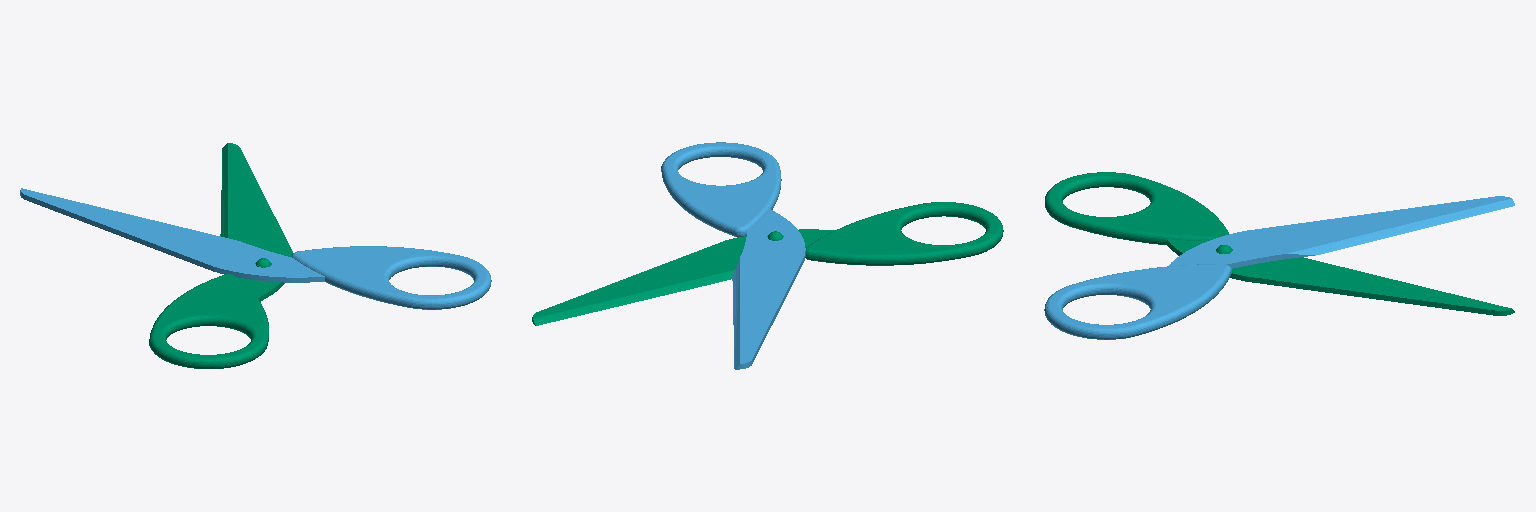
robot.urdf — partnet_a5421bb2fabea179467ca2ad6571afff:
<?xml version="1.0" ?>
<robot name="partnet_a5421bb2fabea179467ca2ad6571afff">
	<link name="base"/>
	<link name="link_0">
		<visual name="blade-4">
			<origin xyz="-0.0013485887753746928 -0.038231191158367483 0.016643122688608233"/>
			<geometry>
				<mesh filename="textured_objs/original-6.obj"/>
			</geometry>
		</visual>
		<visual name="handle-5">
			<origin xyz="-0.0013485887753746928 -0.038231191158367483 0.016643122688608233"/>
			<geometry>
				<mesh filename="textured_objs/original-5.obj"/>
			</geometry>
		</visual>
		<collision>
			<origin xyz="-0.0013485887753746928 -0.038231191158367483 0.016643122688608233"/>
			<geometry>
				<mesh filename="textured_objs/original-6.obj"/>
			</geometry>
		</collision>
		<collision>
			<origin xyz="-0.0013485887753746928 -0.038231191158367483 0.016643122688608233"/>
			<geometry>
				<mesh filename="textured_objs/original-5.obj"/>
			</geometry>
		</collision>
	</link>
	<joint name="joint_0" type="revolute">
		<origin xyz="0.0013485887753746928 0.038231191158367483 -0.016643122688608233"/>
		<axis xyz="0 1 0"/>
		<child link="link_0"/>
		<parent link="link_1"/>
		<limit lower="-0.7853981633974483" upper="-0.0"/>
	</joint>
	<link name="link_1">
		<visual name="screw-3">
			<origin xyz="0 0 0"/>
			<geometry>
				<mesh filename="textured_objs/original-3.obj"/>
			</geometry>
		</visual>
		<visual name="screw-3">
			<origin xyz="0 0 0"/>
			<geometry>
				<mesh filename="textured_objs/original-2.obj"/>
			</geometry>
		</visual>
		<visual name="blade-6">
			<origin xyz="0 0 0"/>
			<geometry>
				<mesh filename="textured_objs/original-9.obj"/>
			</geometry>
		</visual>
		<visual name="handle-7">
			<origin xyz="0 0 0"/>
			<geometry>
				<mesh filename="textured_objs/original-8.obj"/>
			</geometry>
		</visual>
		<collision>
			<origin xyz="0 0 0"/>
			<geometry>
				<mesh filename="textured_objs/original-3.obj"/>
			</geometry>
		</collision>
		<collision>
			<origin xyz="0 0 0"/>
			<geometry>
				<mesh filename="textured_objs/original-2.obj"/>
			</geometry>
		</collision>
		<collision>
			<origin xyz="0 0 0"/>
			<geometry>
				<mesh filename="textured_objs/original-9.obj"/>
			</geometry>
		</collision>
		<collision>
			<origin xyz="0 0 0"/>
			<geometry>
				<mesh filename="textured_objs/original-8.obj"/>
			</geometry>
		</collision>
	</link>
	<joint name="joint_1" type="fixed">
		<origin rpy="1.570796326794897 0 -1.570796326794897" xyz="0 0 0"/>
		<child link="link_1"/>
		<parent link="base"/>
	</joint>
</robot>

--- Render facts (derived) ---
Views: 3 orthographic renders of the robot side by side, from view 1: azimuth 30°, elevation 25°; view 2: azimuth 150°, elevation 25°; view 3: azimuth 270°, elevation 25°.
Model partnet_a5421bb2fabea179467ca2ad6571afff with 3 links and 2 joints (1 revolute, 1 fixed), rooted at base, posed every joint at zero.
Links seen in each view (by area): view 1: link_0, link_1; view 2: link_0, link_1; view 3: link_0, link_1.
Boxes of the visible links, x1=… form: link_0: x1=20, y1=188, x2=491, y2=309; link_1: x1=149, y1=143, x2=292, y2=368; link_0: x1=661, y1=142, x2=805, y2=369; link_1: x1=532, y1=202, x2=1003, y2=325; link_0: x1=1044, y1=196, x2=1514, y2=339; link_1: x1=1045, y1=172, x2=1514, y2=315.
Size in the robot's own frame: 1.25 by 1.5 by 0.0661 metres.
Meshes: 6 distinct files referenced, 6 mesh visuals loaded (6 OBJ).